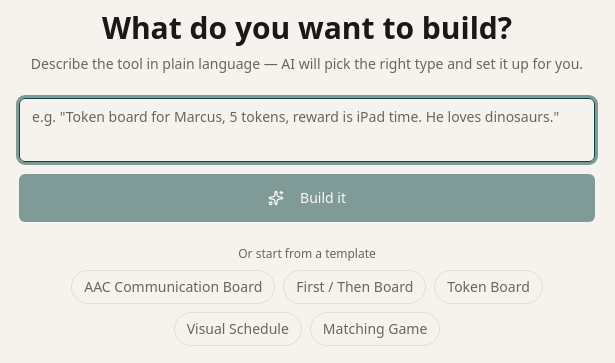
Scenario: ToolEntryPage › Build it button enables when description is entered
The width and height of the screenshot is (615, 363).
Replace the text in the text box with "token board for Marcus": (307, 130) [19,98,595,162]
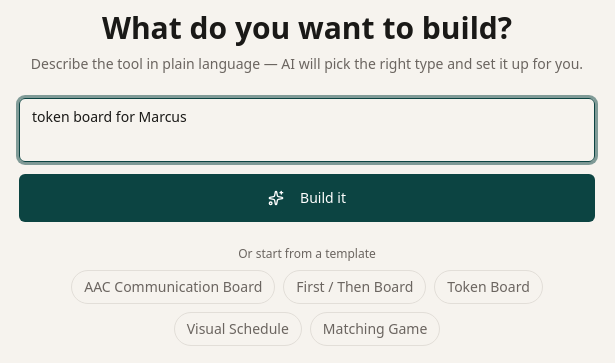
Expected: the button "Build it" is enabled, [19,174,595,222]
